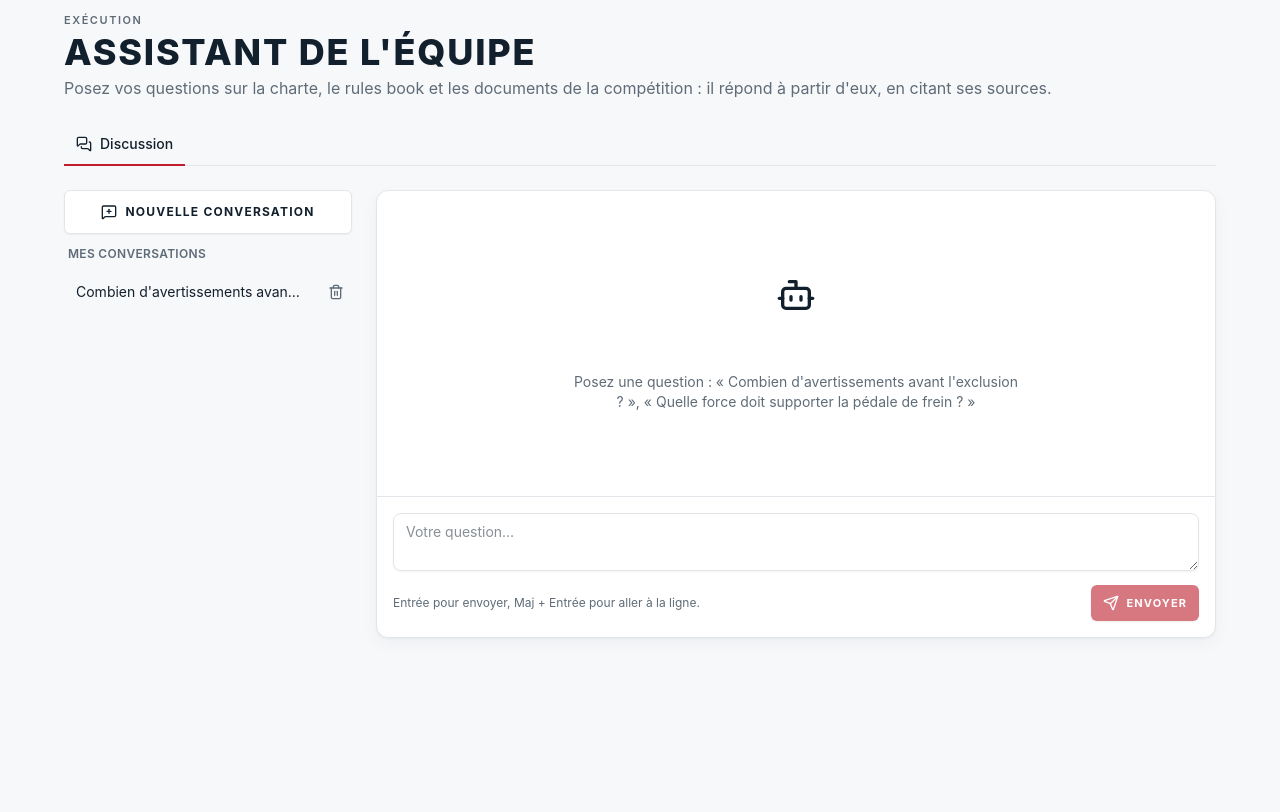
Scenario: AssistantPage › goes on with an earlier conversation
Click the button "Combien d'avertissements avant l'exclusion ?".
click(190, 292)  # box x1=64 y1=274 x2=316 y2=310
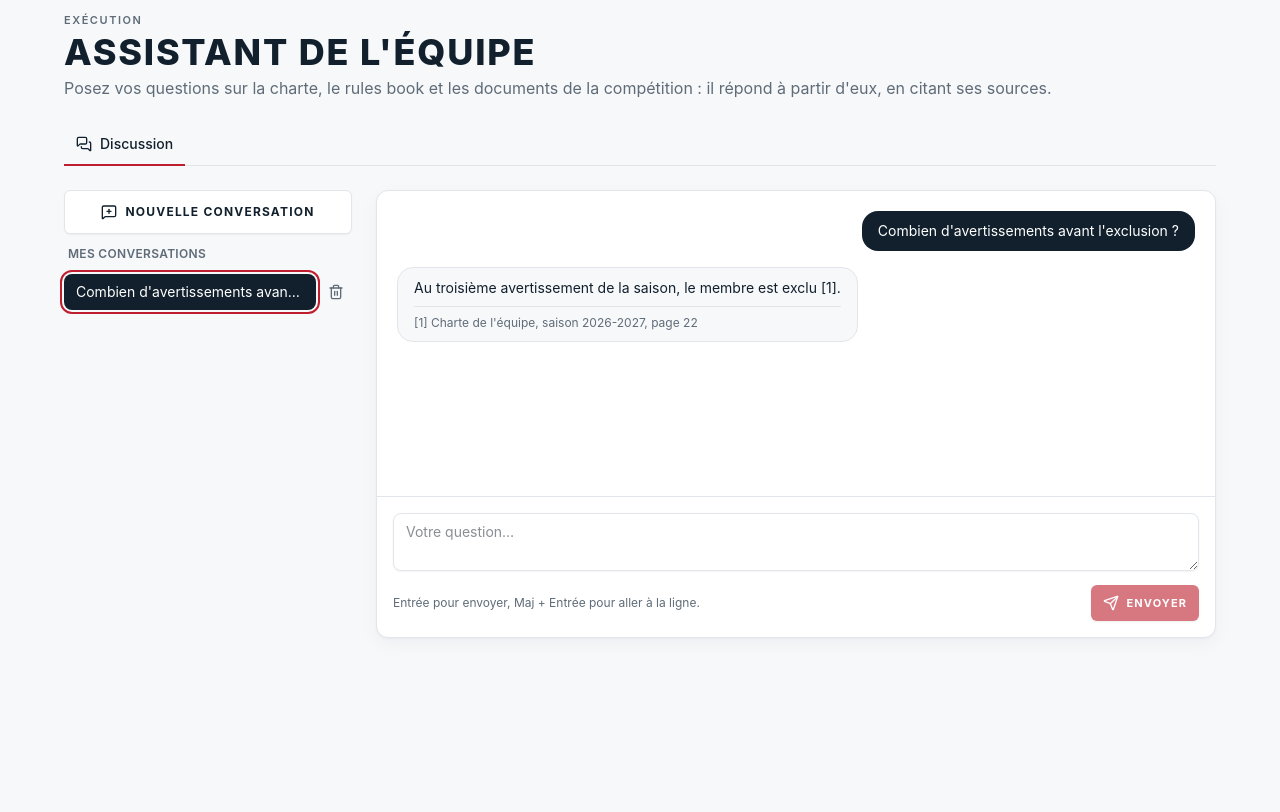
Result: the text "Au troisième avertissement" is shown at x1=414 y1=279 x2=841 y2=296
Type "Et qui confirme ?" into the text box labelled "Votre question".
click(796, 542); type("Et qui confirme ?")  # box x1=393 y1=513 x2=1199 y2=571
Then press Enter
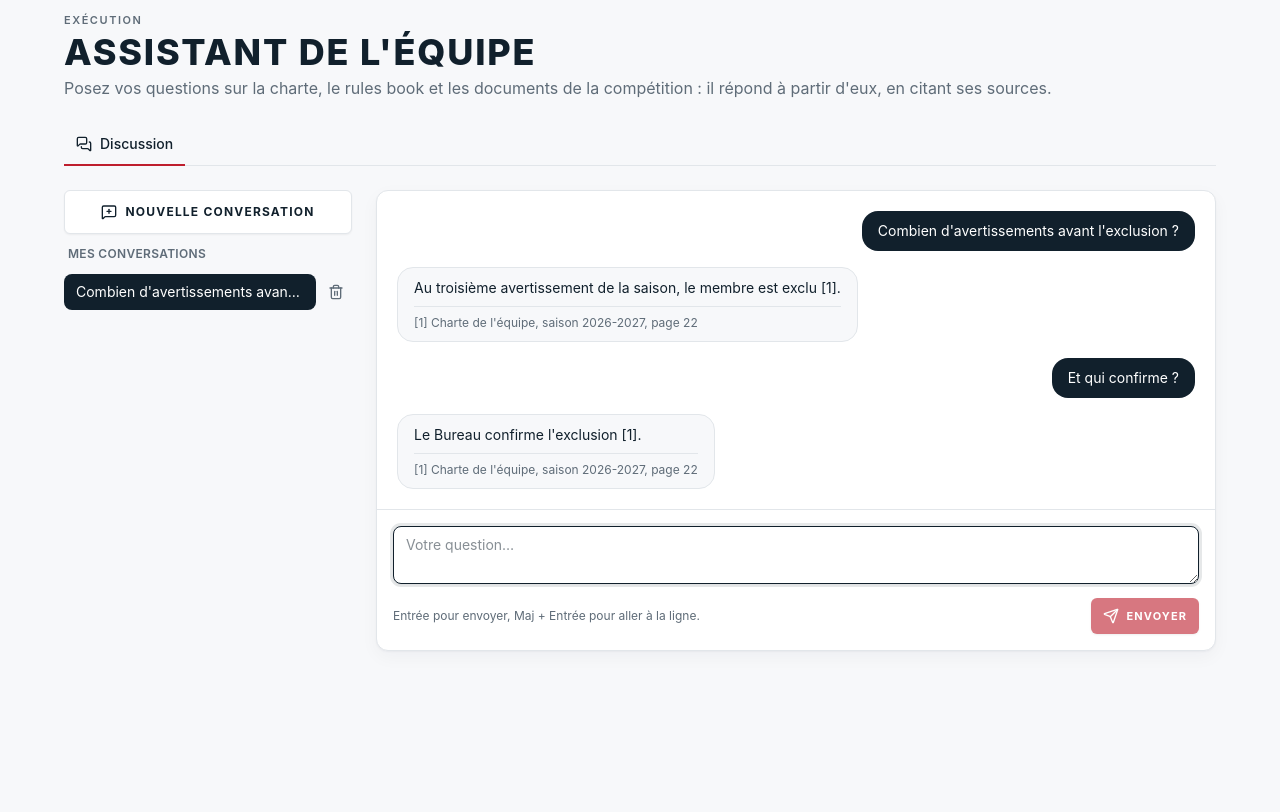
Result: the text "Le Bureau confirme l'exclusion [1]." is shown at x1=414 y1=426 x2=642 y2=443
